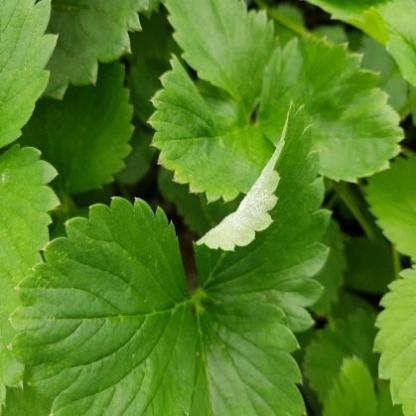Strawberry_Powdery_Mildew_Leaf: (192, 98, 334, 334)
